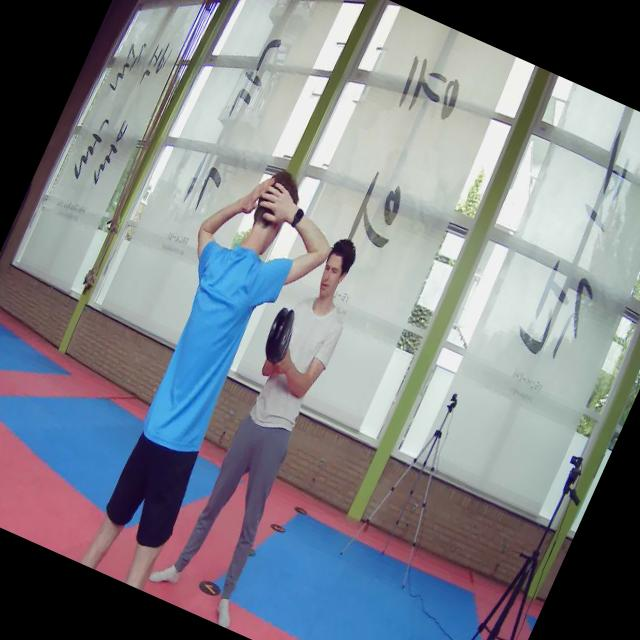paddle: (264, 307, 295, 362)
